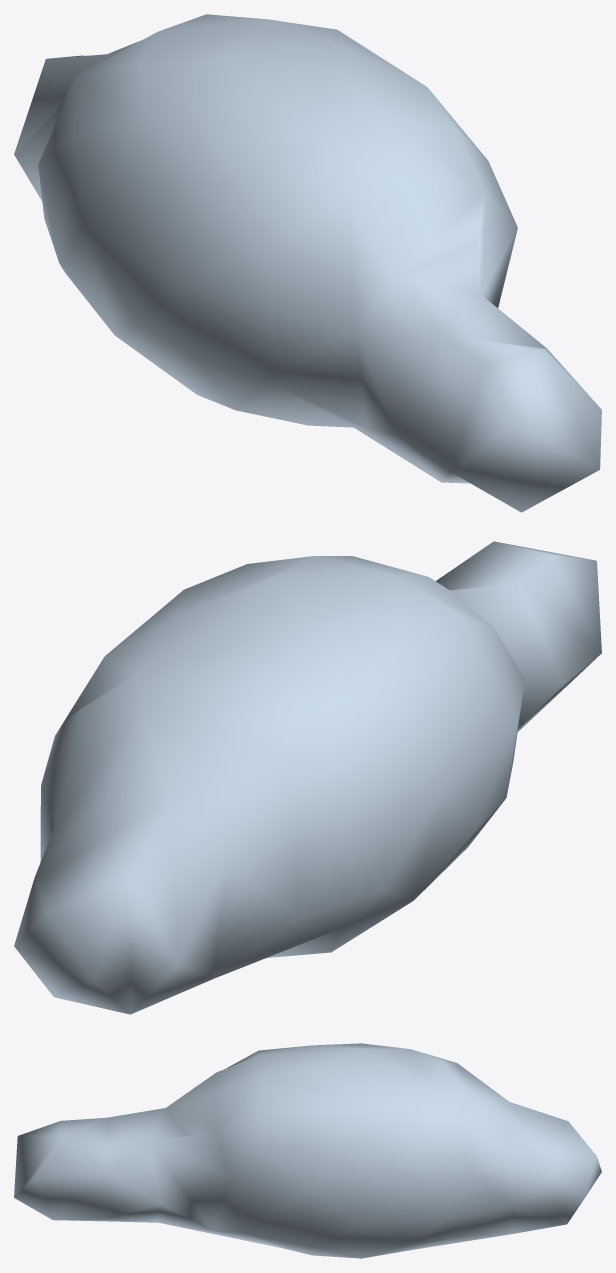
The model's file is Nuvem 02.fbx.
3 views of the same model, one above another, from view 1: azimuth 30°, elevation 25°; view 2: azimuth 150°, elevation 25°; view 3: azimuth 270°, elevation 25° (orthographic). The views are drawn at different scales.
Parts seen in each view (by area): view 1: Sphere.013; view 2: Sphere.013; view 3: Sphere.013.
Boxes of the visible parts, left/top/right/bottom form: Sphere.013: left=14, top=14, right=601, bottom=512; Sphere.013: left=14, top=541, right=601, bottom=1014; Sphere.013: left=14, top=1043, right=601, bottom=1258.
Size of the model in its own units: 163 by 139 by 400.
